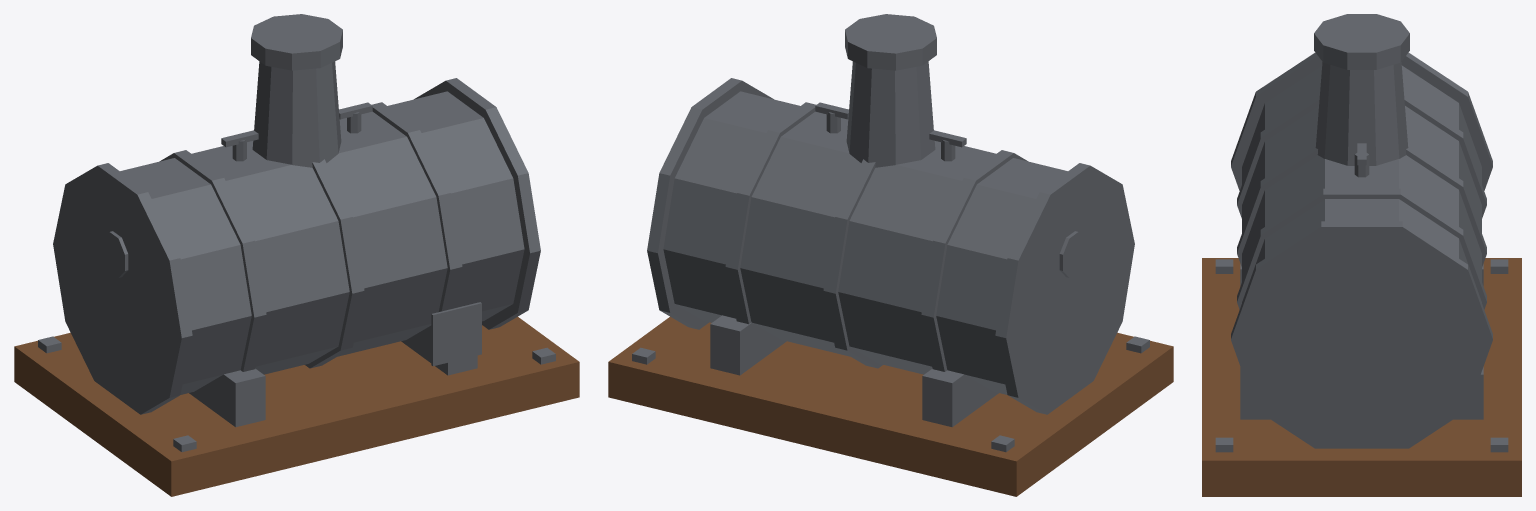
The model's file is SN_Boiler_Unit.glb.
The picture shows the model from 3 angles, left to right: view 1: azimuth 30°, elevation 25°; view 2: azimuth 150°, elevation 25°; view 3: azimuth 270°, elevation 25°; orthographic projection.
Visible parts, largest first — view 1: SN_Boiler_Unit; view 2: SN_Boiler_Unit; view 3: SN_Boiler_Unit.
Boxes of the visible parts, x1,y1,x2,y2 form: SN_Boiler_Unit: [14, 14, 579, 496]; SN_Boiler_Unit: [608, 14, 1173, 496]; SN_Boiler_Unit: [1202, 14, 1521, 496].
Bounding box in the file's own units: 3 × 2.5 × 2.
